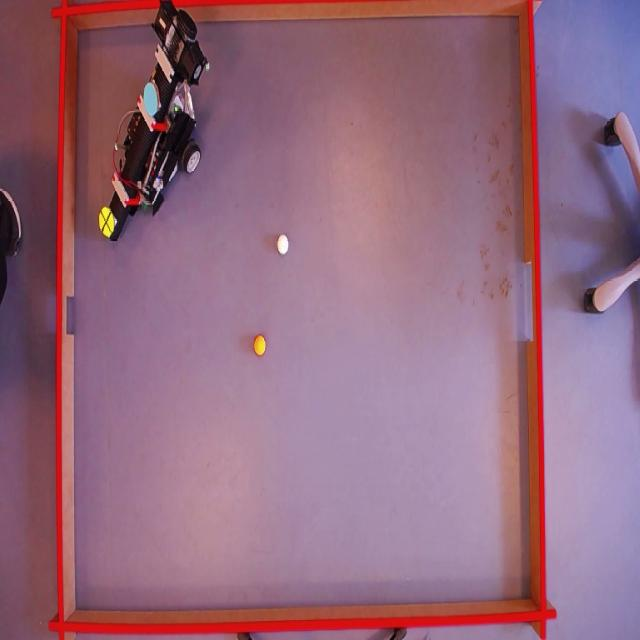orange: (254, 336, 268, 358)
robot: (104, 5, 208, 251)
robot-front: (98, 206, 115, 238)
robot-rear: (141, 83, 159, 114)
white: (276, 234, 288, 255)
